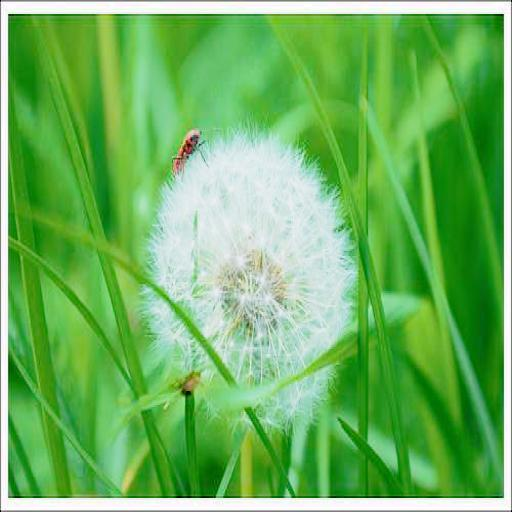dandelion: (150, 130, 356, 421)
